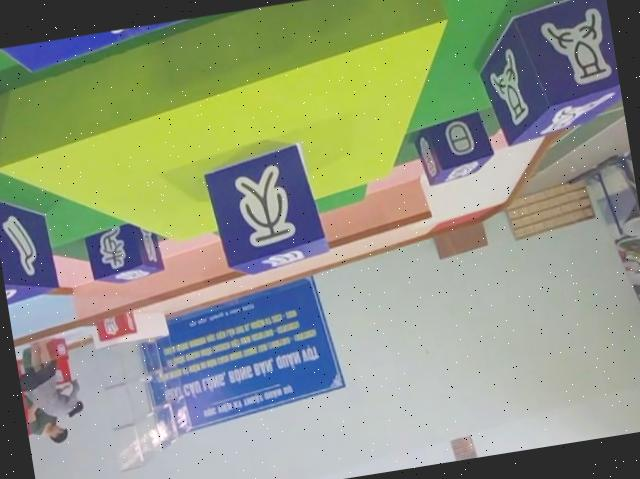R2 Fake Blue: (199, 141, 332, 283), (409, 109, 497, 187), (83, 218, 165, 288)
R2 Real Blue: (468, 0, 625, 145), (0, 182, 60, 306)
